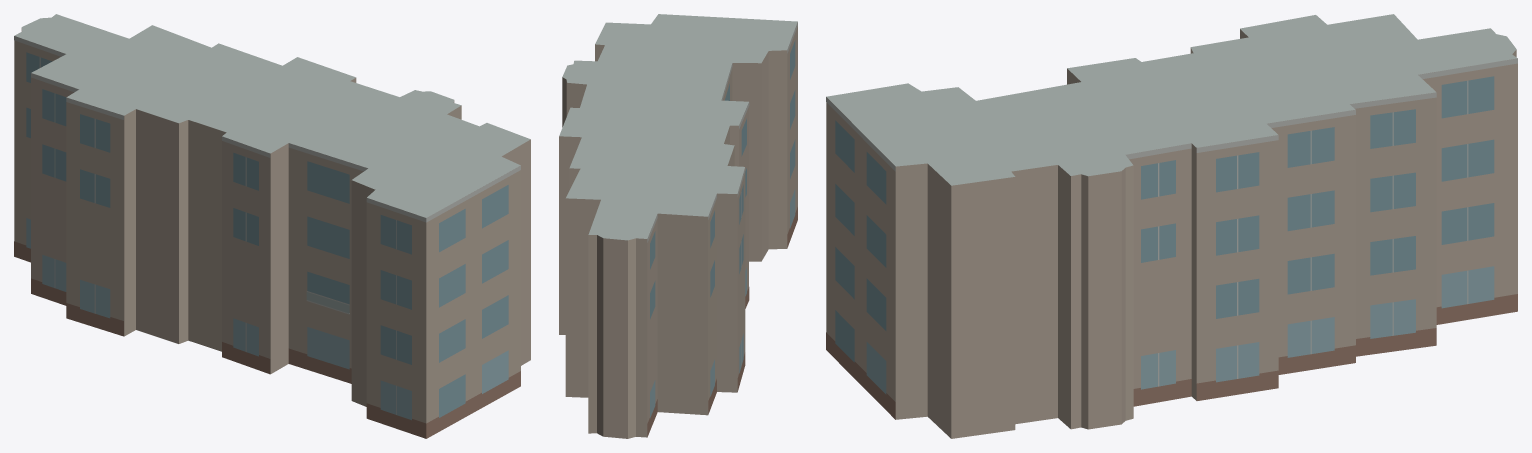
The model's file is survey-upis-32996853.glb.
3 renders of one model, left to right at view 1: azimuth 30°, elevation 25°; view 2: azimuth 150°, elevation 25°; view 3: azimuth 270°, elevation 25°, orthographic. The views are drawn at different scales.
Visible parts, largest first — view 1: survey-upis-32996853.tmp; view 2: survey-upis-32996853.tmp; view 3: survey-upis-32996853.tmp.
Part boxes in pixels (x1,y1,x2,y2): survey-upis-32996853.tmp: (14, 14, 530, 438); survey-upis-32996853.tmp: (559, 14, 797, 438); survey-upis-32996853.tmp: (826, 14, 1517, 438).
Bounding box in the file's own units: 17.31 × 11.9 × 29.46.
